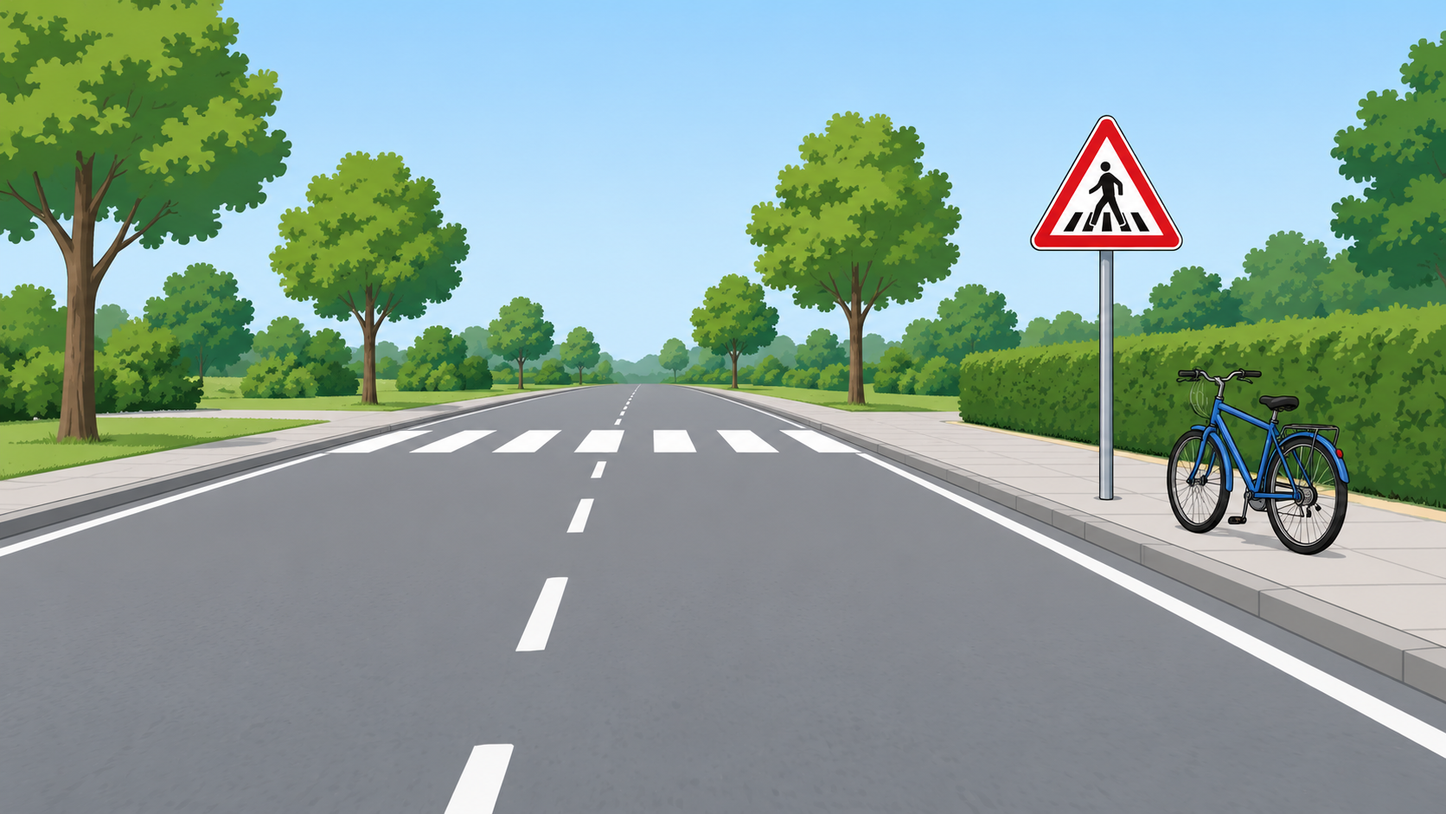bicycle: (1168, 369, 1362, 556)
crossing_warning_sign: (1029, 114, 1185, 253)
zebra_crossing: (285, 428, 882, 476)
